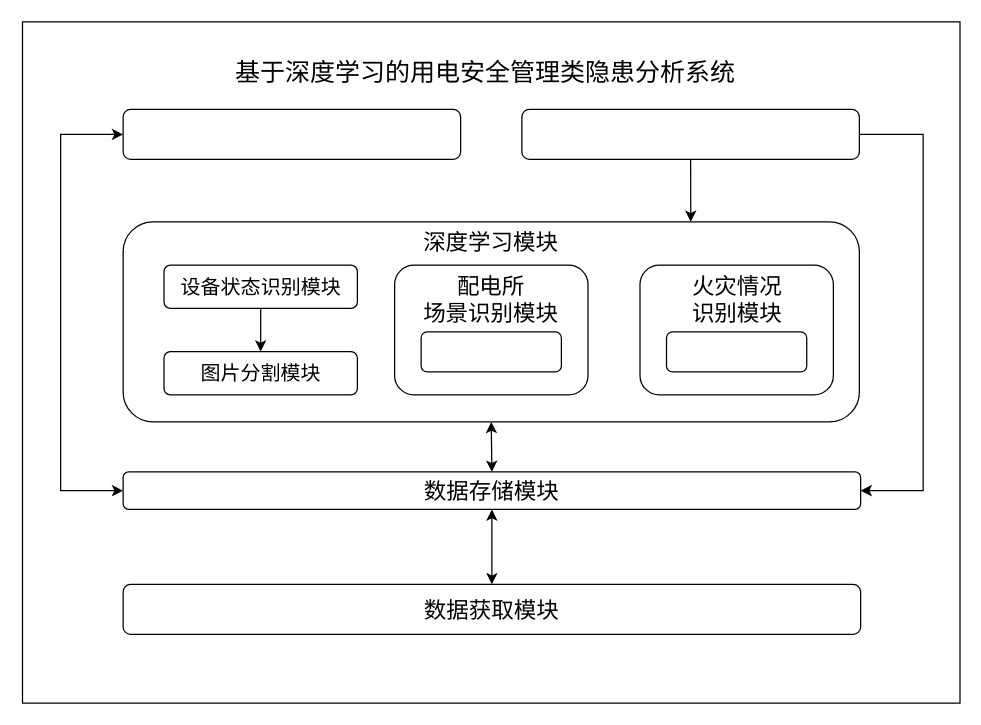
Some shapes in this 981 by 725 pixel diagram are drawn without their labels. The centre of each missing label's shape, as x and y in pixels:
"Faster R-CNN" belongs at point (490, 351).
"YOLO" belongs at point (736, 351).
"告警信息模块" belongs at point (690, 133).
"用户操作模块" belongs at point (291, 133).
